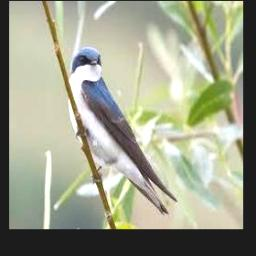Swallow: (68, 46, 177, 215)
